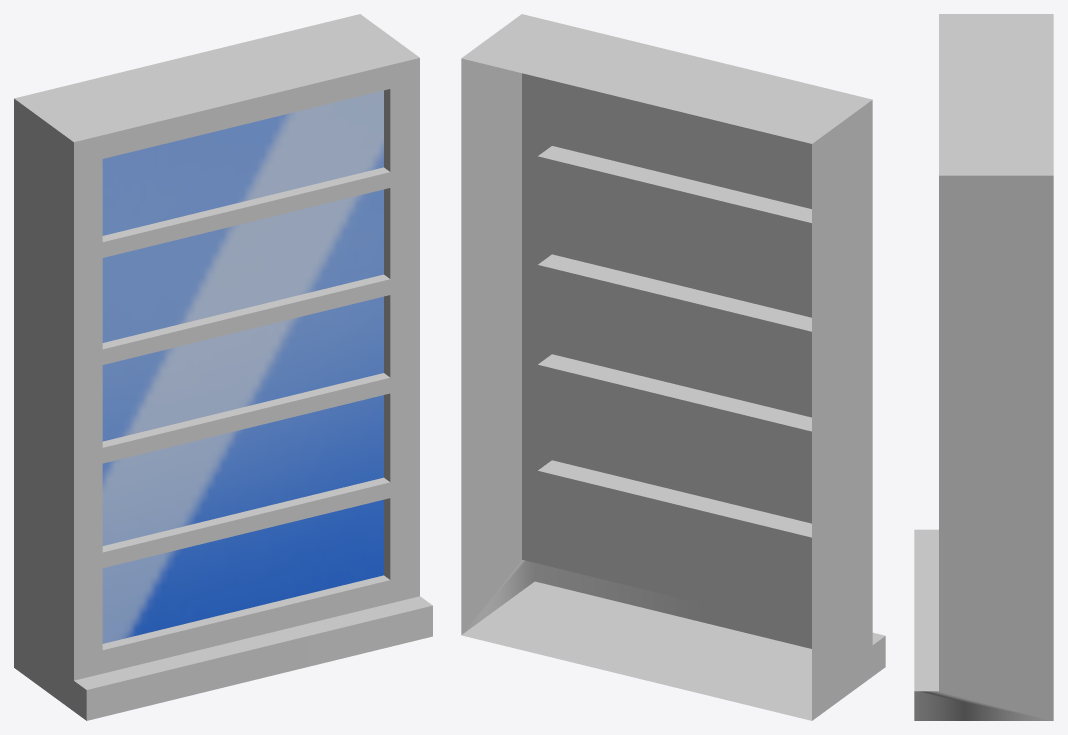
The model's file is window_02.fbx.
3 views of the same model, side by side, from view 1: azimuth 30°, elevation 25°; view 2: azimuth 150°, elevation 25°; view 3: azimuth 270°, elevation 25° (orthographic). The views are drawn at different scales.
Visible parts, largest first — view 1: pPlane3, pPlane3_Ext_1, pPlane3_Ext_3; view 2: pPlane3_Ext_3, pPlane3_Ext_1; view 3: pPlane3_Ext_3, pPlane3_Ext_1.
Part boxes in pixels (x1,y1,x2,y2): pPlane3: (102, 90, 383, 643); pPlane3_Ext_1: (14, 56, 259, 720); pPlane3_Ext_3: (187, 14, 432, 678); pPlane3_Ext_3: (461, 14, 710, 677); pPlane3_Ext_1: (637, 57, 885, 720); pPlane3_Ext_3: (914, 95, 1053, 720); pPlane3_Ext_1: (914, 14, 1053, 610).
Bounding box in the file's own units: 128 × 200 × 46.39.
